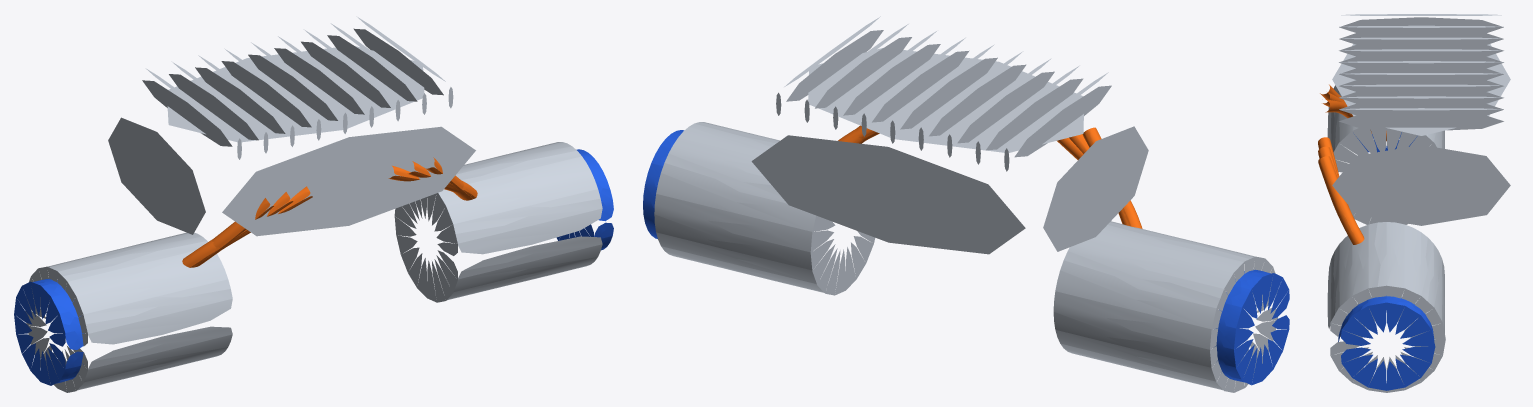
Rendered from hybrid_kers_inverter.glb.
3 views of the same model, side by side, from view 1: azimuth 30°, elevation 25°; view 2: azimuth 150°, elevation 25°; view 3: azimuth 270°, elevation 25° (orthographic). The views are drawn at different scales.
Parts seen in each view (by area): view 1: Hybrid_KERS_Inverter_Assembly; view 2: Hybrid_KERS_Inverter_Assembly; view 3: Hybrid_KERS_Inverter_Assembly.
Part boxes in pixels (<box>): Hybrid_KERS_Inverter_Assembly: <box>14,16,613,392</box>; Hybrid_KERS_Inverter_Assembly: <box>643,16,1289,392</box>; Hybrid_KERS_Inverter_Assembly: <box>1318,14,1510,392</box>.
Bounding box in the file's own units: 0.83 × 0.3425 × 0.2886.
